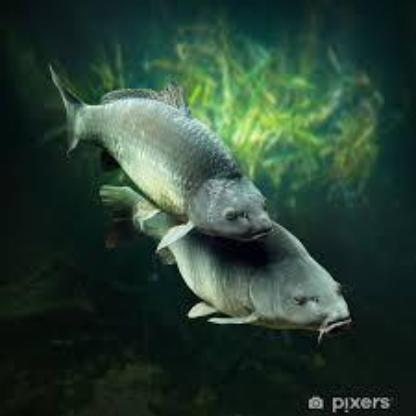ikan-mas: (47, 68, 274, 228), (124, 197, 344, 334)
